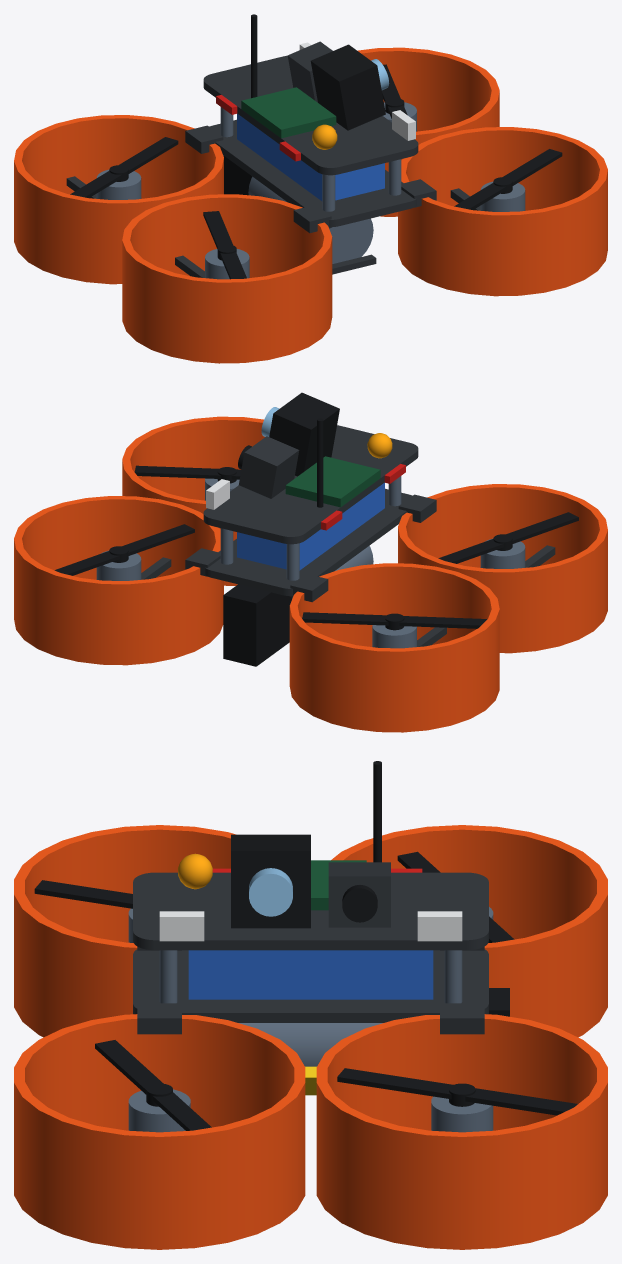
Rendered from pip.glb.
3 renders of one model, top to bottom at view 1: azimuth 30°, elevation 25°; view 2: azimuth 150°, elevation 25°; view 3: azimuth 270°, elevation 25°, orthographic. The views are drawn at different scales.
Parts seen in each view (by area): view 1: Duct rear right, Duct front right, Duct rear left, Duct front left, Frame top plate, Frame bottom plate, Camera module, LiPo battery (stand-in), Flight controller (stand-in), Dispenser drum, Propeller rear left, Propeller front right (+16 smaller); view 2: Duct rear left, Duct front left, Duct rear right, Duct front right, Frame top plate, Dispenser servo (stand-in), Frame bottom plate, LiPo battery (stand-in), Camera module, Flight controller (stand-in), Thermal camera (stand-in), Propeller rear left (+14 smaller); view 3: Duct front right, Duct front left, Duct rear left, Duct rear right, Frame top plate, LiPo battery (stand-in), Frame bottom plate, Camera module, Propeller front left, Thermal camera (stand-in), Propeller front right, Dispenser drum (+15 smaller).
Boxes of the visible parts, x1,y1,x2,y2 form: Duct rear right: (122,194,332,363); Duct front right: (398,127,607,296); Duct rear left: (14,115,223,284); Duct front left: (357,47,499,216); Frame top plate: (203,55,418,175); Frame bottom plate: (209,119,416,227); Camera module: (310,44,385,130); LiPo battery (stand-in): (237,113,384,201); Flight controller (stand-in): (241,87,336,138); Dispenser drum: (248,176,373,263); Propeller rear left: (70,137,178,197); Propeller front right: (454,149,562,209); Duct rear left: (289,563,499,732); Duct front left: (14,496,223,665); Duct rear right: (398,484,607,653); Duct front right: (122,416,264,585); Frame top plate: (203,425,418,544); Dispenser servo (stand-in): (223,584,291,666); Frame bottom plate: (205,488,412,596); LiPo battery (stand-in): (237,482,384,570); Camera module: (269,392,339,476); Flight controller (stand-in): (285,456,380,507); Thermal camera (stand-in): (239,436,299,498); Propeller rear left: (302,612,487,630); Duct front right: (14,1014,305,1249); Duct front left: (316,1014,607,1249); Duct rear left: (331,825,607,1037); Duct rear right: (14,825,235,1037); Frame top plate: (133,872,488,950); LiPo battery (stand-in): (188,950,433,999); Frame bottom plate: (133,949,488,1022); Camera module: (231,834,310,928); Propeller front left: (337,1068,577,1115); Thermal camera (stand-in): (328,862,390,927); Propeller front right: (95,1040,211,1130); Dispenser drum: (239,1023,382,1066).
Bounding box in the file's own units: 0.166 × 0.0765 × 0.1335.
